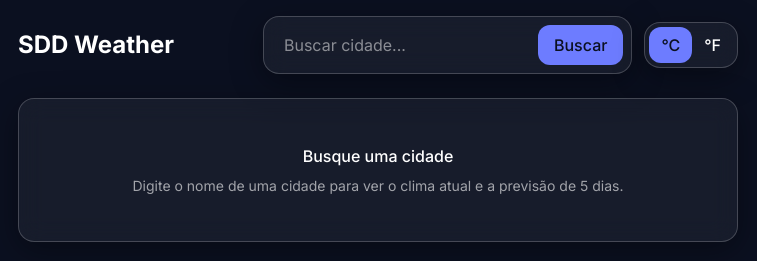
Test: App › mostra erro com retry que refaz a busca
This screenshot has width=757, height=261.
Step 1. Type "Rio de Janeiro" into the field labelled "Buscar cidade" → (401, 45), box [272,25,530,65]
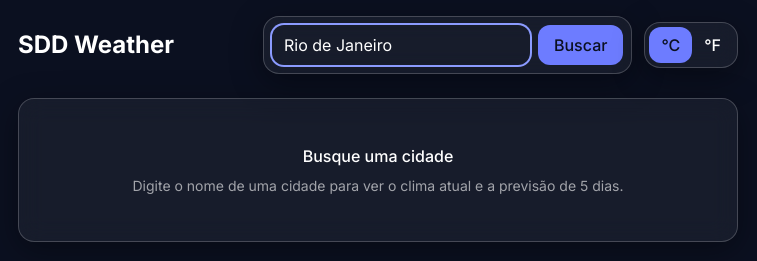
Step 2. Click the button "Buscar" → (581, 45), box [538,25,623,65]
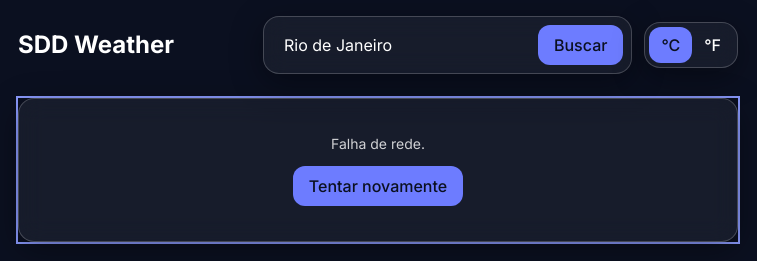
Step 3. Click the button "Tentar novamente" → (378, 186), box [293,166,463,206]
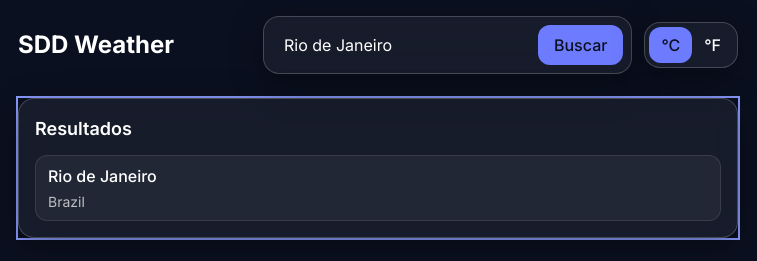
Expected: the text "Rio de Janeiro" is shown, [48,164,157,188]
